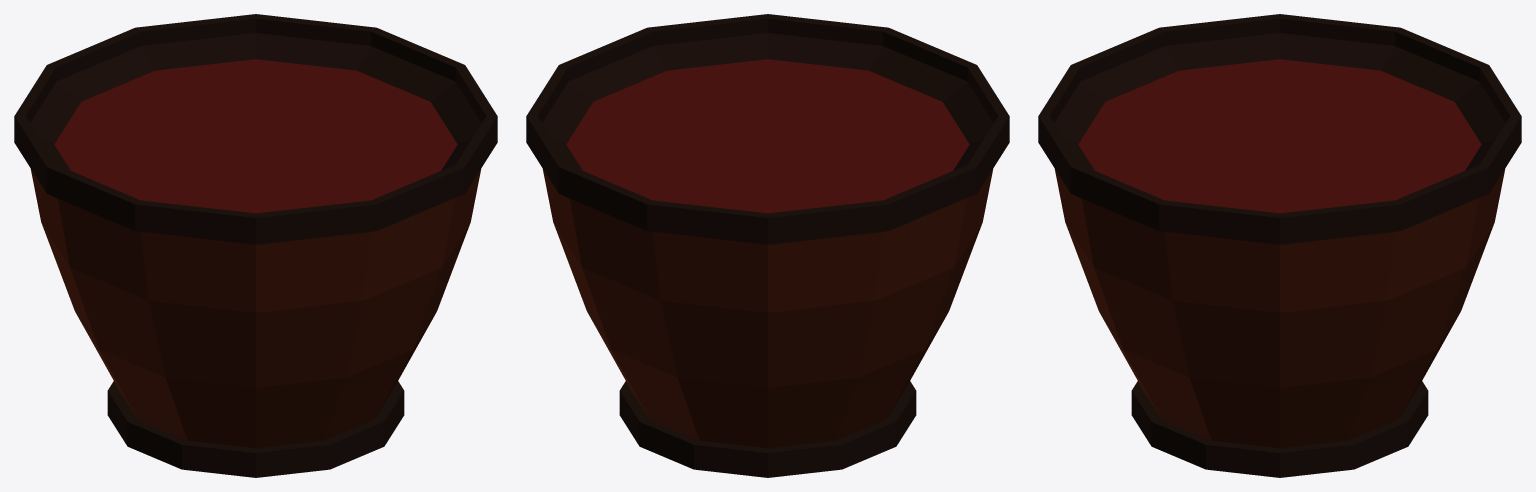
Rendered from basic_vase.obj.
3 views of the same model, side by side, from view 1: azimuth 30°, elevation 25°; view 2: azimuth 150°, elevation 25°; view 3: azimuth 270°, elevation 25° (orthographic).
Parts seen in each view (by area): view 1: BasicVase_Cylinder; view 2: BasicVase_Cylinder; view 3: BasicVase_Cylinder.
Boxes of the visible parts, <box> form: BasicVase_Cylinder: <box>14,14,497,477</box>; BasicVase_Cylinder: <box>526,14,1009,477</box>; BasicVase_Cylinder: <box>1038,14,1521,477</box>.
Bounding box in the file's own units: 3.53 × 2.42 × 3.53.
